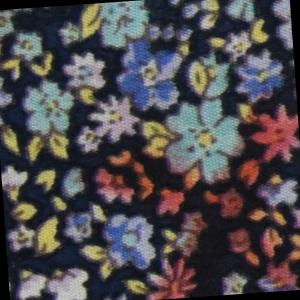Stain: (69, 77, 300, 300)
